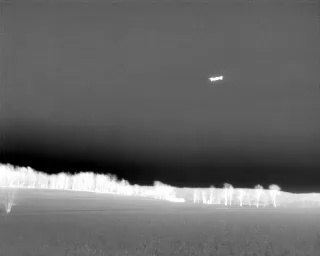DRONE: (206, 71, 227, 86)
